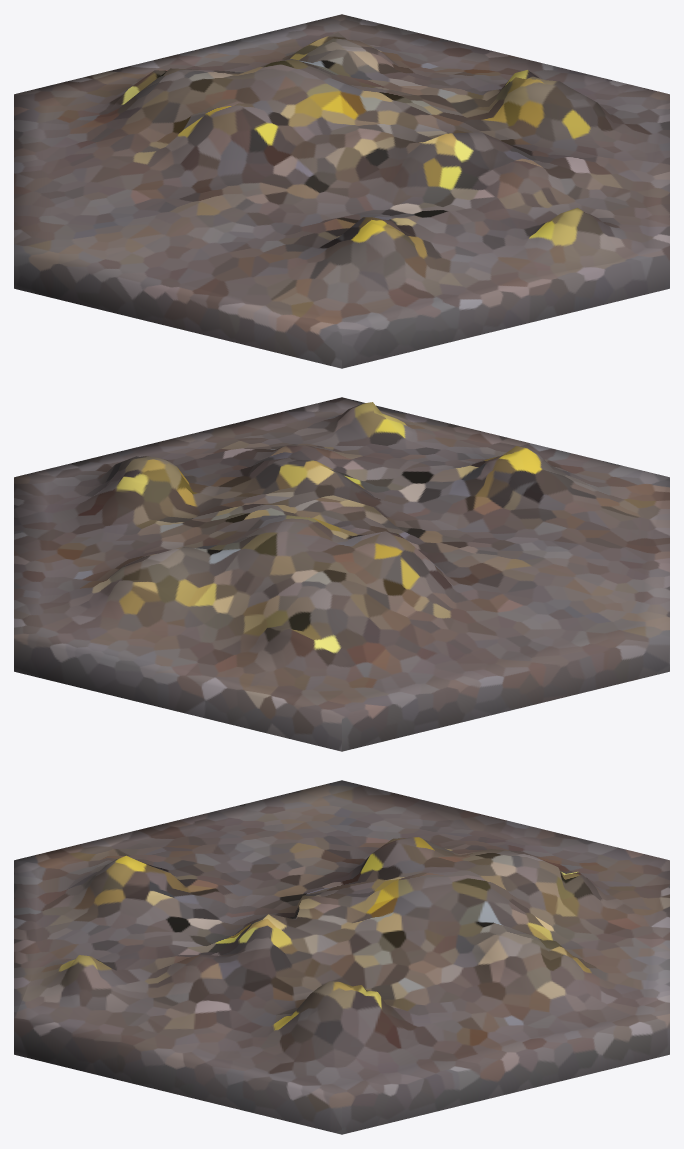
The model's file is HexTop_GoldGround.fbx.
3 renders of one model, top to bottom at view 1: azimuth 30°, elevation 25°; view 2: azimuth 150°, elevation 25°; view 3: azimuth 270°, elevation 25°, orthographic.
Visible parts, largest first — view 1: HexTop_GoldGround; view 2: HexTop_GoldGround; view 3: HexTop_GoldGround.
Boxes of the visible parts, x1,y1,x2,y2 form: HexTop_GoldGround: [14, 14, 669, 368]; HexTop_GoldGround: [14, 397, 669, 751]; HexTop_GoldGround: [14, 780, 669, 1134].
Size of the model in its own units: 100 by 14.53 by 86.6.
